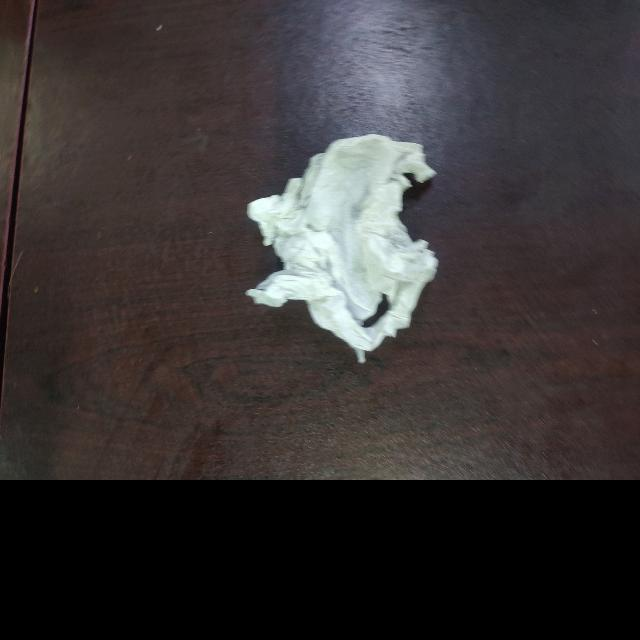kitchen paper: (249, 129, 446, 370)
